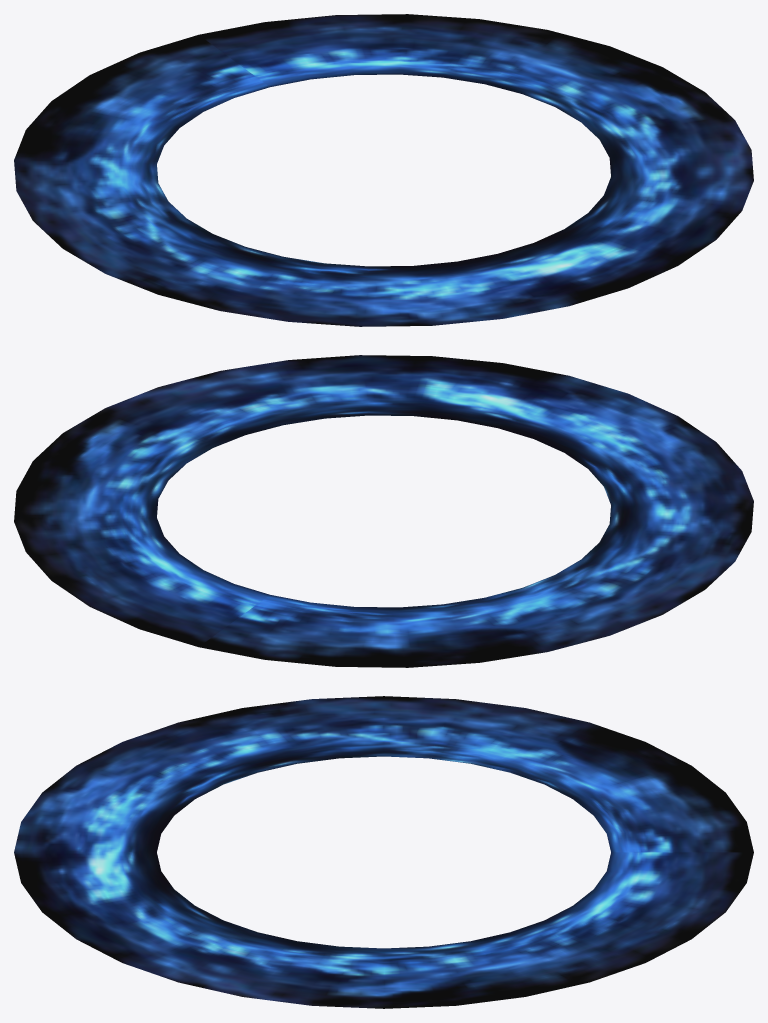
File: SM_Halfcircle.FBX
3 views of the same model, one above another, from view 1: azimuth 30°, elevation 25°; view 2: azimuth 150°, elevation 25°; view 3: azimuth 270°, elevation 25° (orthographic).
Parts seen in each view (by area): view 1: Sphere001; view 2: Sphere001; view 3: Sphere001.
Part boxes in pixels (x1,y1,x2,y2): Sphere001: (14, 14, 753, 326); Sphere001: (14, 355, 753, 667); Sphere001: (14, 696, 753, 1008).
Size of the model in its own units: 173 by 0.000448 by 173.
